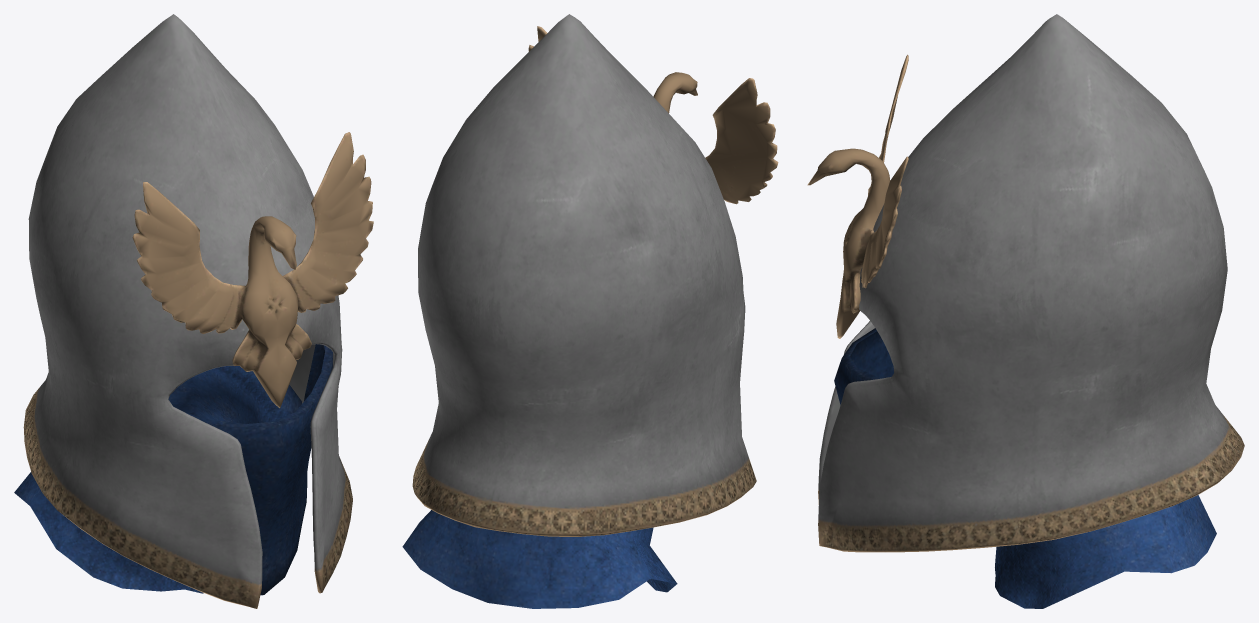
File: dol_amroth_helmet_swan_mask.fbx
The picture shows the model from 3 angles, left to right: view 1: azimuth 30°, elevation 25°; view 2: azimuth 150°, elevation 25°; view 3: azimuth 270°, elevation 25°; orthographic projection. The views are drawn at different scales.
Visible parts, largest first — view 1: dol_amroth_helmet_swan_mask; view 2: dol_amroth_helmet_swan_mask; view 3: dol_amroth_helmet_swan_mask.
Boxes of the visible parts, x1,y1,x2,y2 form: dol_amroth_helmet_swan_mask: (14,14,373,608); dol_amroth_helmet_swan_mask: (402,14,778,608); dol_amroth_helmet_swan_mask: (807,14,1244,608).
Size of the model in its own units: 0.2101 by 0.2869 by 0.4145.
Materials: 1 (1 with a texture image).
